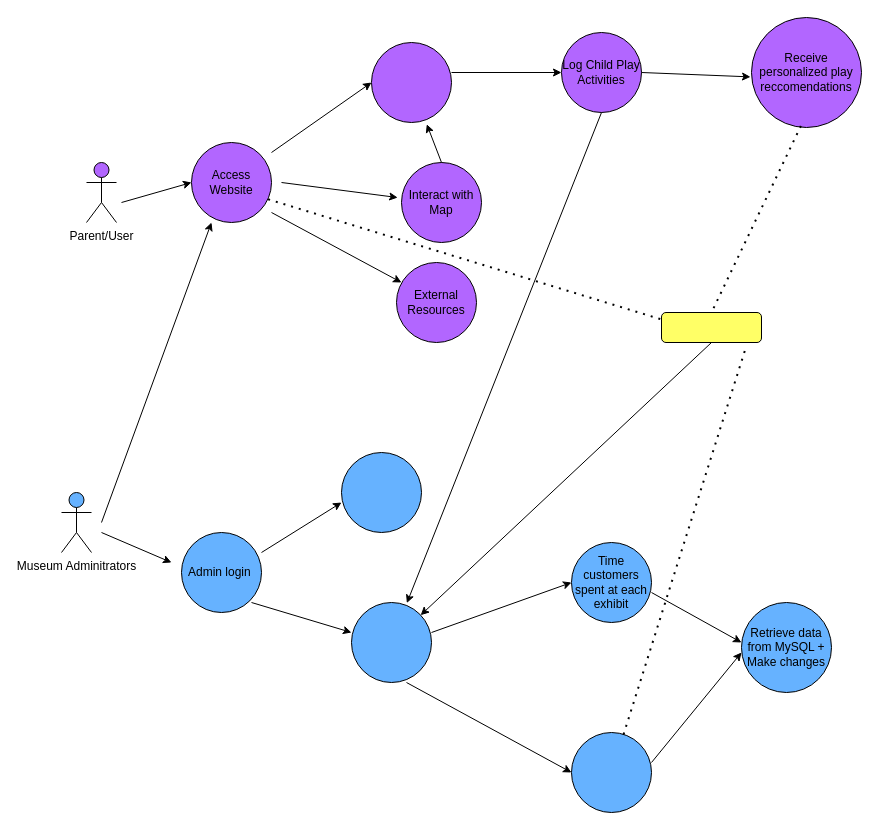
The diagram is 879 pixels wide and 830 high, and some of its shapes have lost their labels. The shapes that lost their labels are listed below. From the top down, each one's centre as x and y in pixels, then its label:
At (411,82): "Explore Exhibit Info".
At (711,327): "Website Feedback Survey".
At (381,492): "Modify app amenities".
At (391,642): "Collect Data (Excel)".
At (611,772): "User Interaction".
